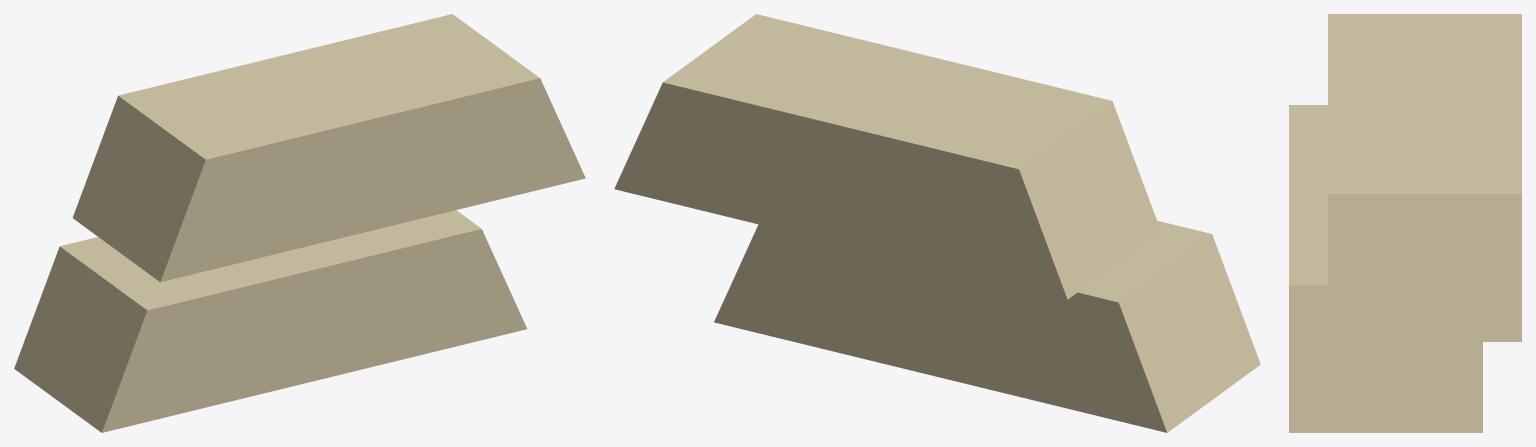
The model's file is radiant_bar.glb.
3 views of the same model, side by side, from view 1: azimuth 30°, elevation 25°; view 2: azimuth 150°, elevation 25°; view 3: azimuth 270°, elevation 25° (orthographic). The views are drawn at different scales.
Parts seen in each view (by area): view 1: radiant_bar_v0; view 2: radiant_bar_v0; view 3: radiant_bar_v0.
Part boxes in pixels (left/top/right/bottom): radiant_bar_v0: left=14, top=14, right=585, bottom=432; radiant_bar_v0: left=614, top=14, right=1260, bottom=432; radiant_bar_v0: left=1289, top=14, right=1521, bottom=432.
Bounding box in the file's own units: 0.33 × 0.145 × 0.12.
